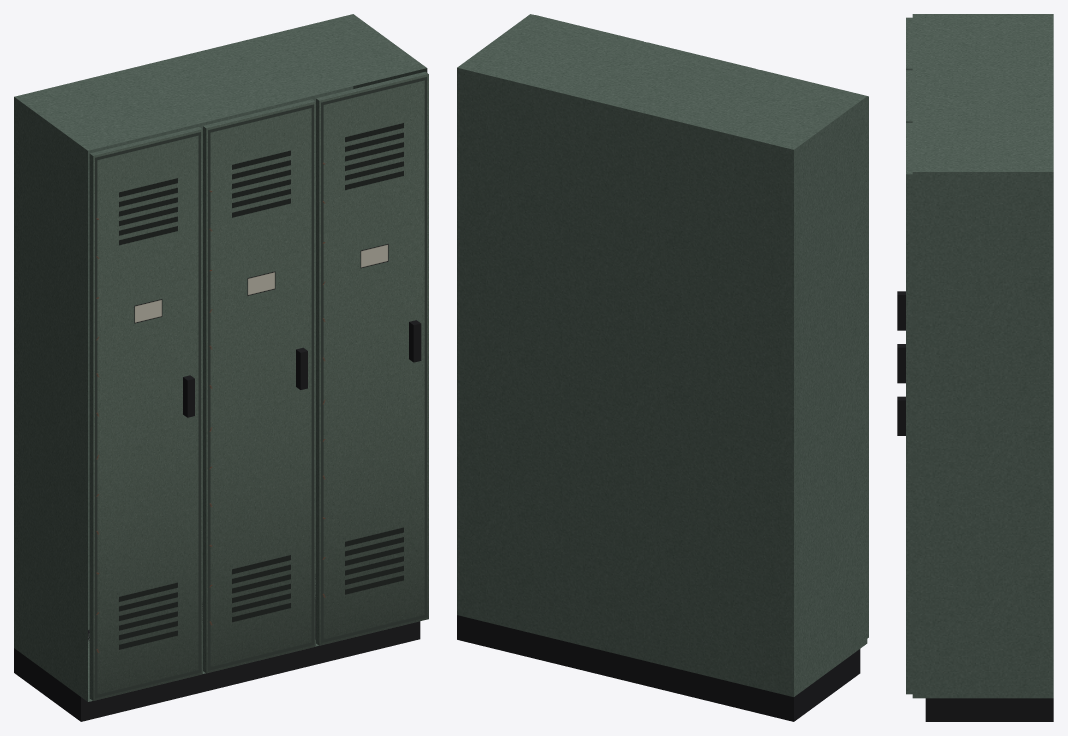
Rendered from SM_OpRoom_Lockers.fbx.
3 renders of one model, left to right at view 1: azimuth 30°, elevation 25°; view 2: azimuth 150°, elevation 25°; view 3: azimuth 270°, elevation 25°, orthographic. The views are drawn at different scales.
Parts seen in each view (by area): view 1: Lockers; view 2: Lockers; view 3: Lockers.
Boxes of the visible parts, <box> form: Lockers: <box>14,14,428,721</box>; Lockers: <box>457,14,868,721</box>; Lockers: <box>897,14,1053,721</box>.
Size of the model in its own units: 1.14 by 1.85 by 0.477.
3 materials, 3 textured.
